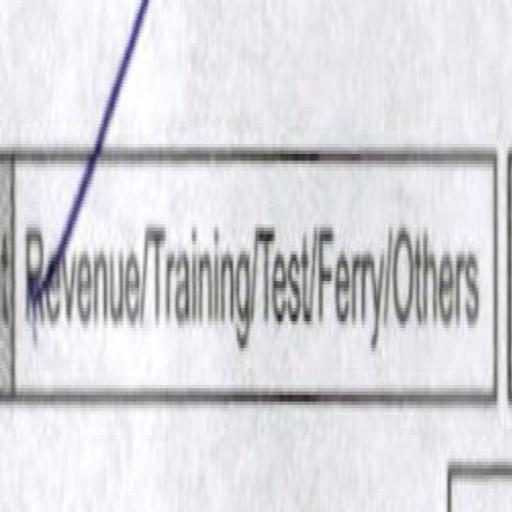check: (22, 123, 146, 392)
